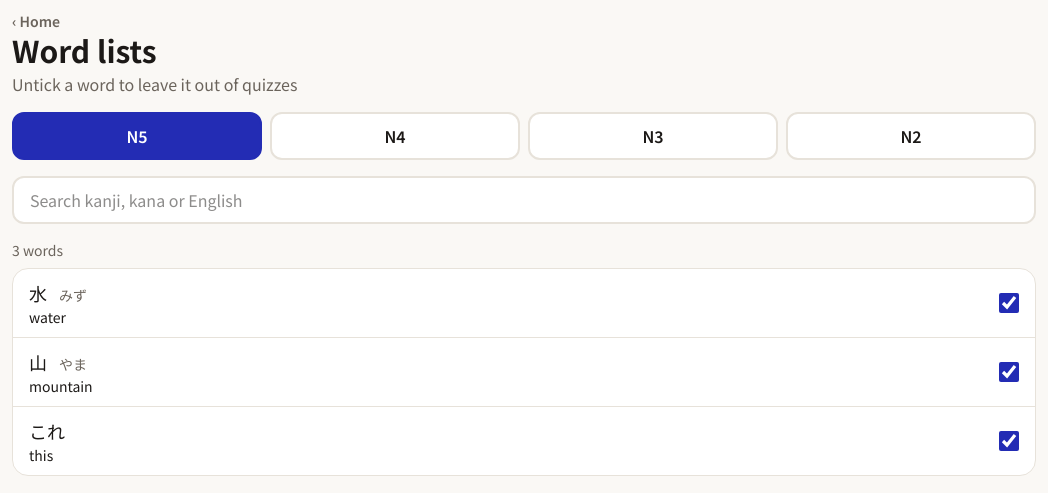
Scenario: WordLists › shows one level at a time
Expected: the text "3 words" is shown, x1=12 y1=240 x2=63 y2=260
Expected: the text "水" is shown, x1=29 y1=279 x2=47 y2=307
// switching levels suspends on the next word list
Click the tab "N4". click: click(395, 136)
box: x1=270 y1=112 x2=520 y2=160
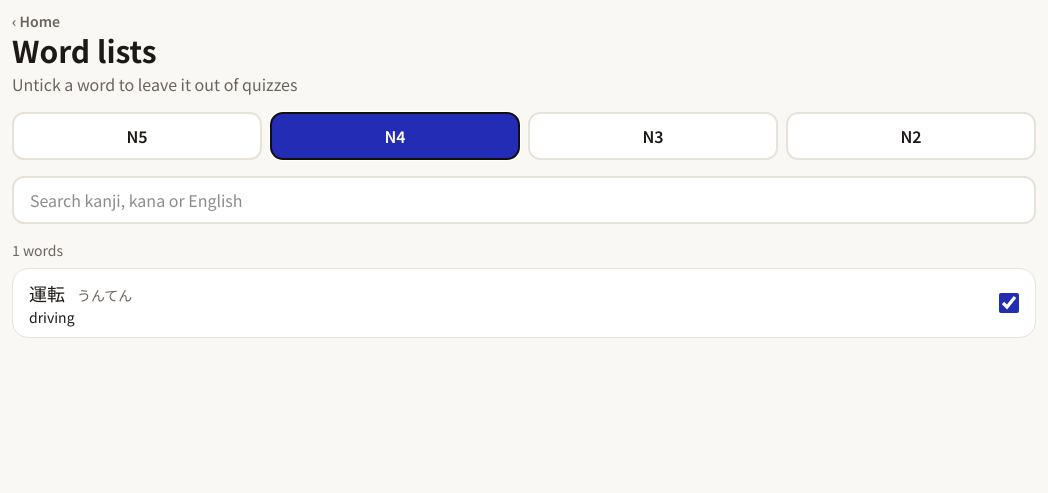
Result: the text "運転" is shown at x1=29 y1=279 x2=65 y2=307
Result: the text "水" is gone
Press Arrowright
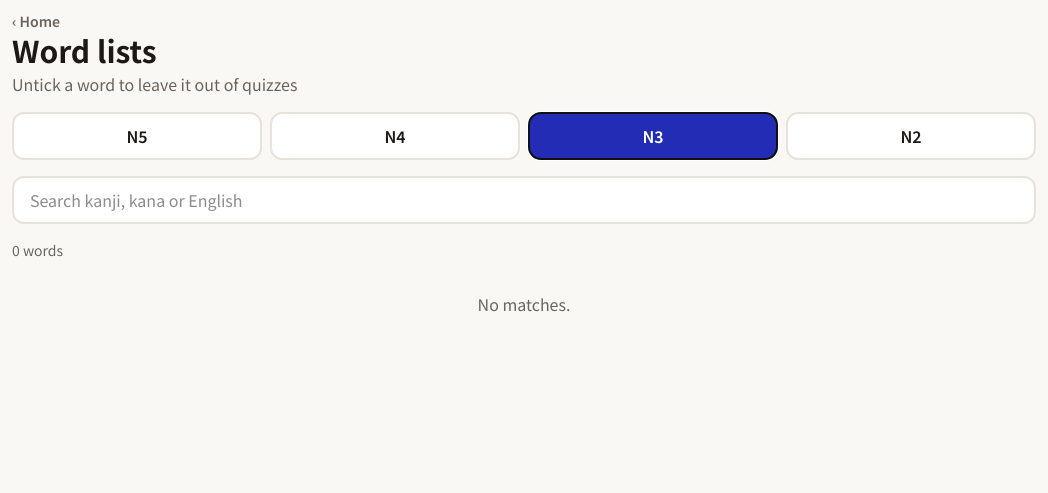
Result: the text "0 words" is shown at x1=12 y1=240 x2=63 y2=260
